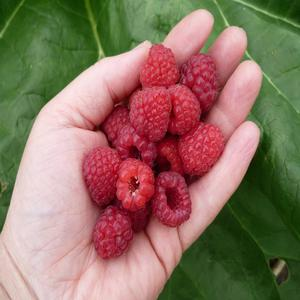raspb: (72, 38, 229, 252)
